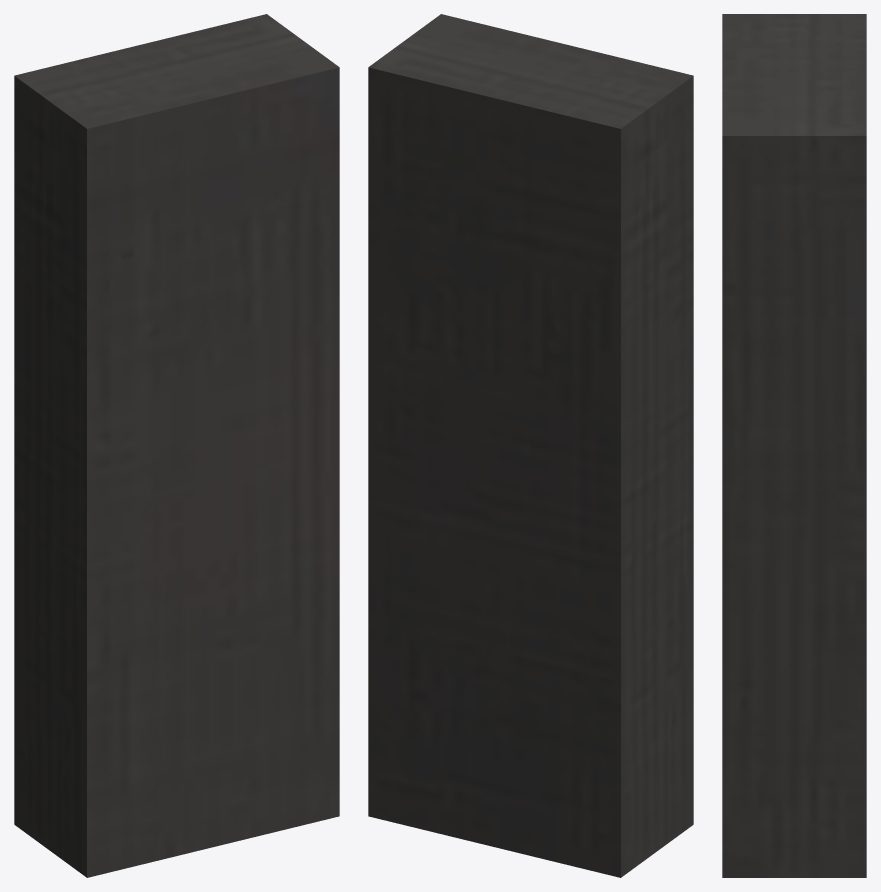
The model's file is frame__crossmember_0.glb.
3 views of the same model, side by side, from view 1: azimuth 30°, elevation 25°; view 2: azimuth 150°, elevation 25°; view 3: azimuth 270°, elevation 25° (orthographic).
Parts seen in each view (by area): view 1: world; view 2: world; view 3: world.
Part boxes in pixels (box(x1,y1,x2,y2)): world: box(14, 14, 339, 877); world: box(368, 14, 693, 877); world: box(722, 14, 866, 877).
Size of the model in its own units: 0.06 by 0.17 by 0.03.
Materials: 1 (1 with a texture image).
